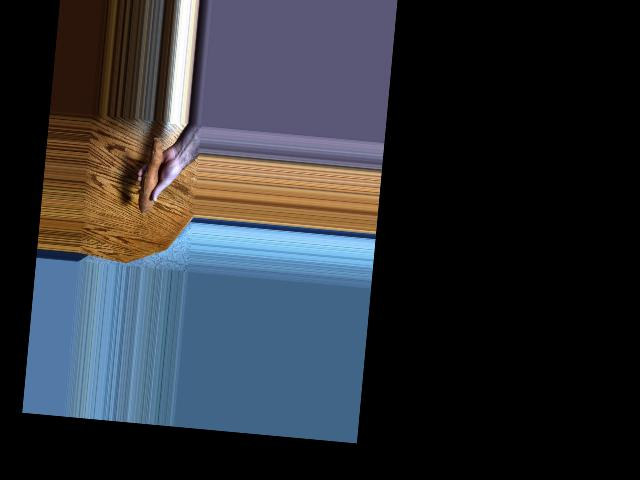sweet_potato: (135, 132, 166, 215)
